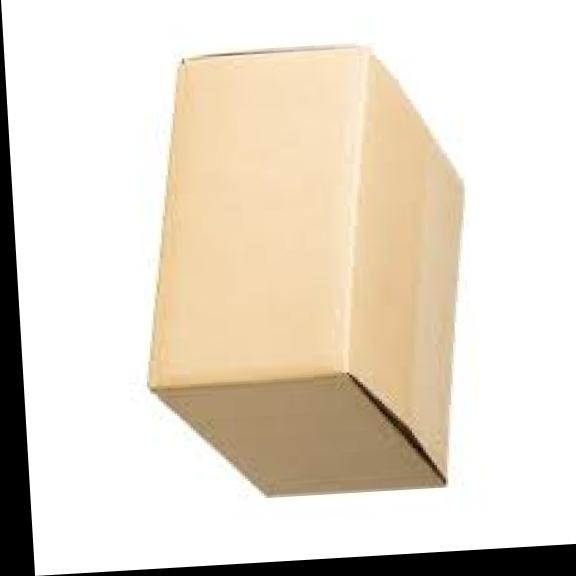Kertas: (152, 47, 462, 493)
